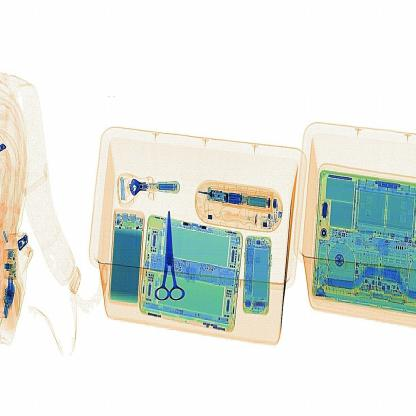gun: (151, 212, 197, 317)
